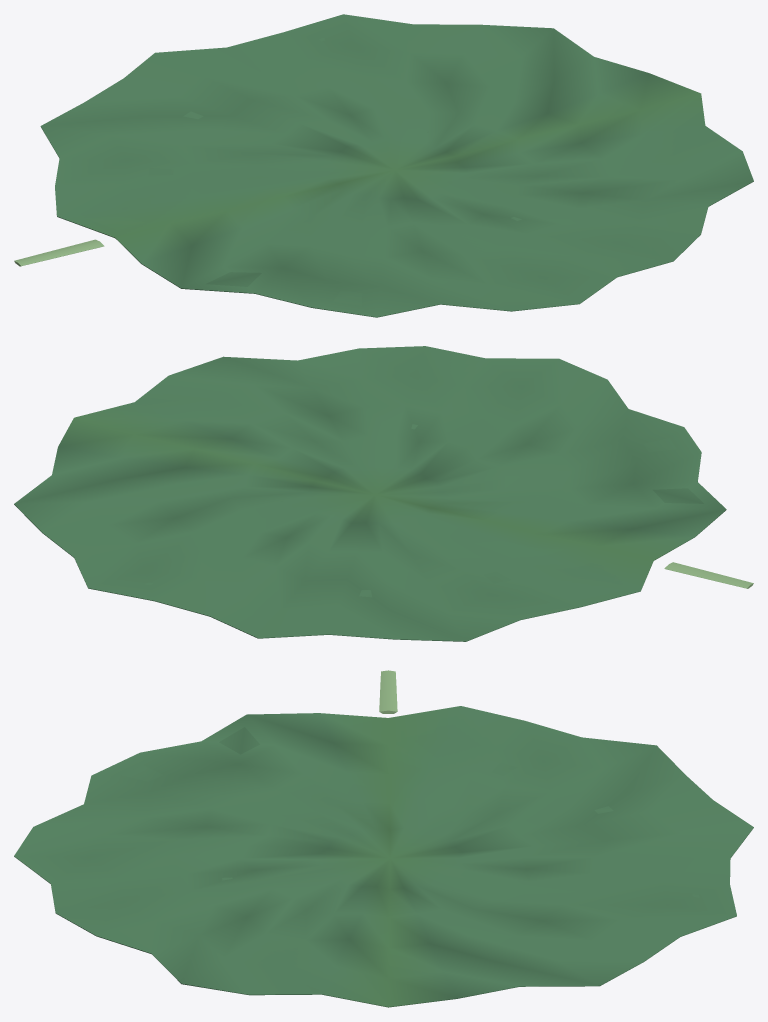
The model's file is sea_cabbage_leaf.glb.
The picture shows the model from 3 angles, top to bottom: view 1: azimuth 30°, elevation 25°; view 2: azimuth 150°, elevation 25°; view 3: azimuth 270°, elevation 25°; orthographic projection. The views are drawn at different scales.
Visible parts, largest first — view 1: sea_cabbage_leaf; view 2: sea_cabbage_leaf; view 3: sea_cabbage_leaf.
Boxes of the visible parts, x1,y1,x2,y2 form: sea_cabbage_leaf: (14, 14, 753, 317); sea_cabbage_leaf: (14, 346, 753, 641); sea_cabbage_leaf: (14, 670, 753, 1007).
Bounding box in the file's own units: 0.26 × 0.002 × 0.24.
